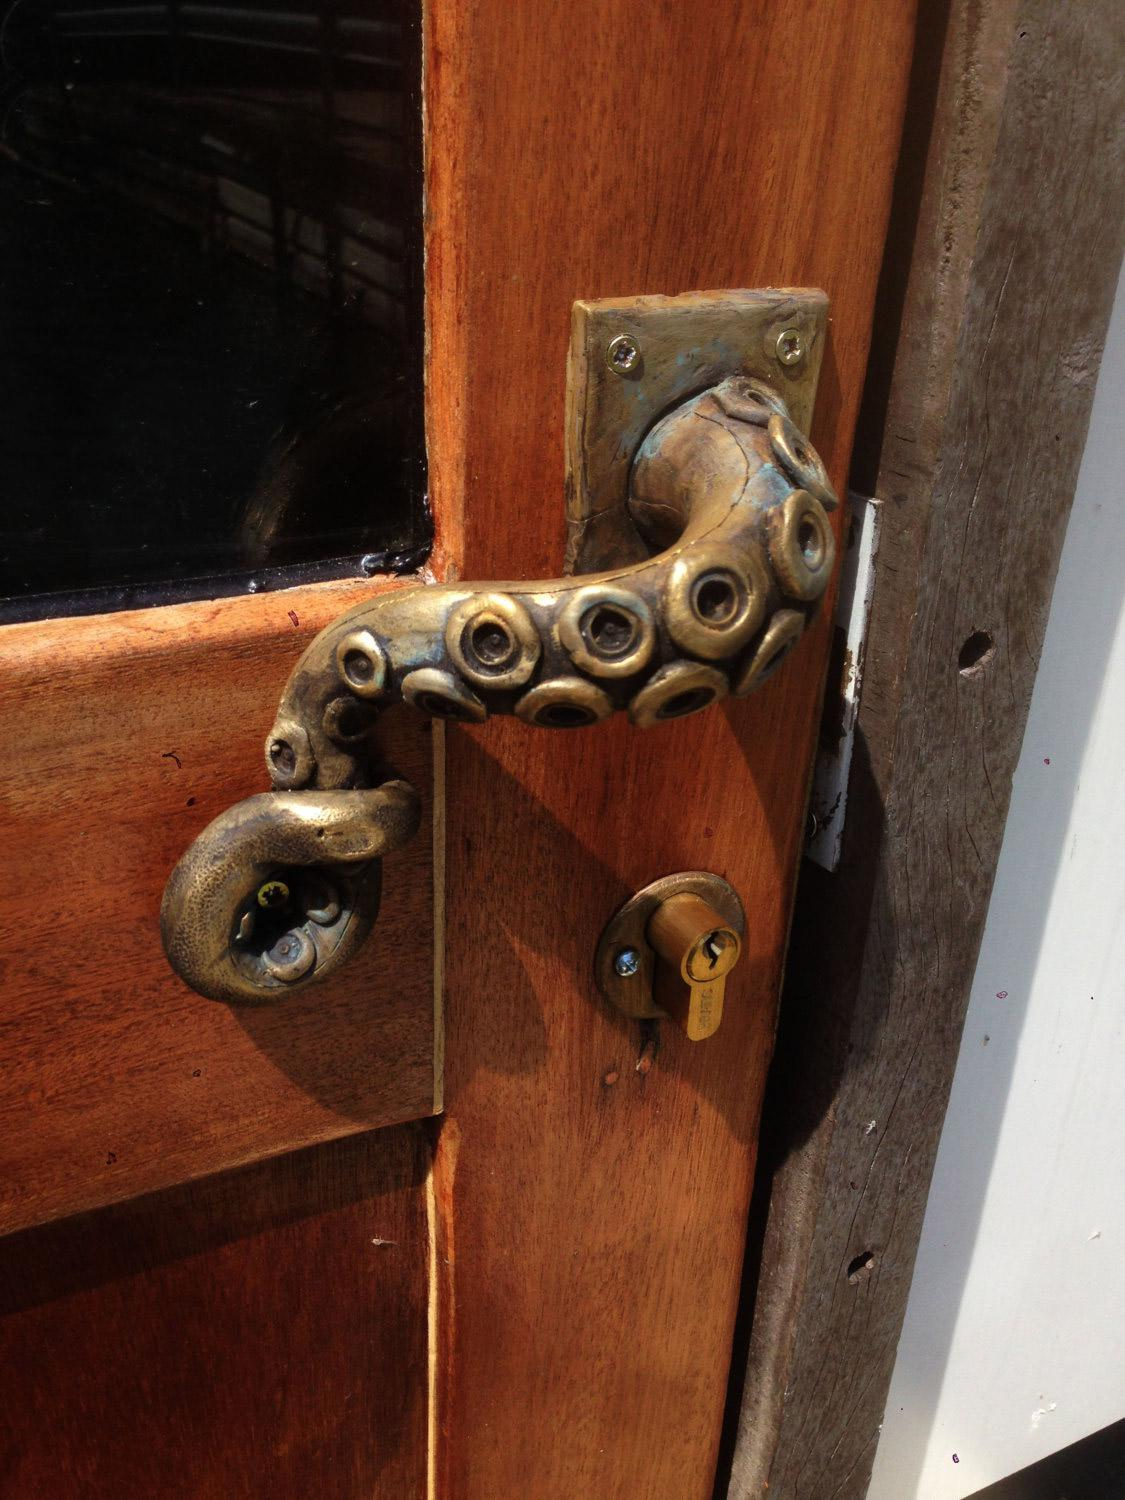doorhandle: (197, 374, 877, 1055)
